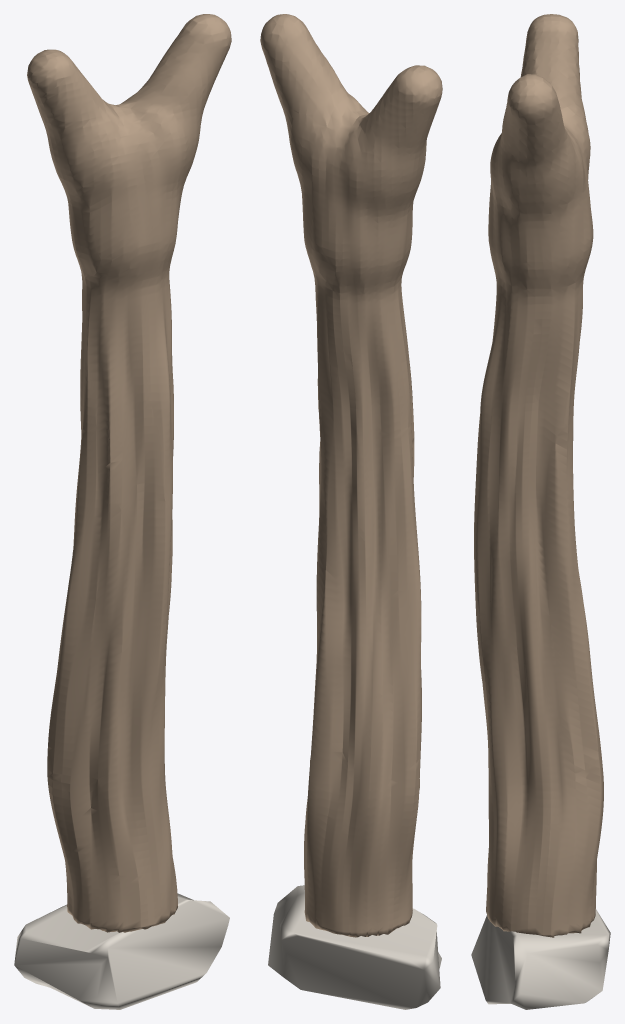
Rendered from bagana-f1-3x12x3-v2.glb.
The picture shows the model from 3 angles, left to right: view 1: azimuth 30°, elevation 25°; view 2: azimuth 150°, elevation 25°; view 3: azimuth 270°, elevation 25°; orthographic projection.
Visible parts, largest first — view 1: bagana_wood, bagana_stone; view 2: bagana_wood, bagana_stone; view 3: bagana_wood, bagana_stone.
Part boxes in pixels (left/top/right/bottom): bagana_wood: left=27, top=14, right=231, bottom=932; bagana_stone: left=14, top=893, right=229, bottom=1009; bagana_wood: left=260, top=14, right=442, bottom=937; bagana_stone: left=268, top=885, right=441, bottom=1009; bagana_wood: left=474, top=14, right=603, bottom=937; bagana_stone: left=471, top=909, right=610, bottom=1009.
Bounding box in the file's own units: 0.6471 × 3 × 0.399.
